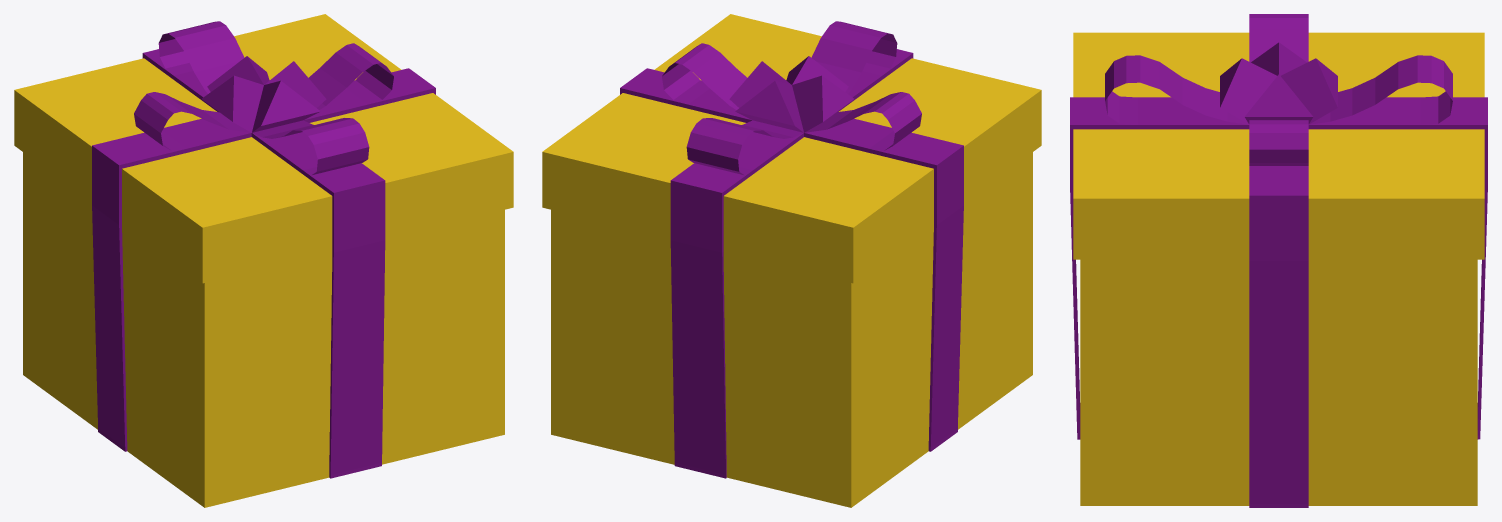
File: Present_Square_Yellow.fbx
The picture shows the model from 3 angles, left to right: view 1: azimuth 30°, elevation 25°; view 2: azimuth 150°, elevation 25°; view 3: azimuth 270°, elevation 25°; orthographic projection. The views are drawn at different scales.
Visible parts, largest first — view 1: Present; view 2: Present; view 3: Present.
Boxes of the visible parts, x1=… form: Present: x1=14, y1=14, x2=513, y2=507; Present: x1=542, y1=14, x2=1041, y2=507; Present: x1=1070, y1=14, x2=1487, y2=507.
Size of the model in its own units: 164 by 166 by 171.
